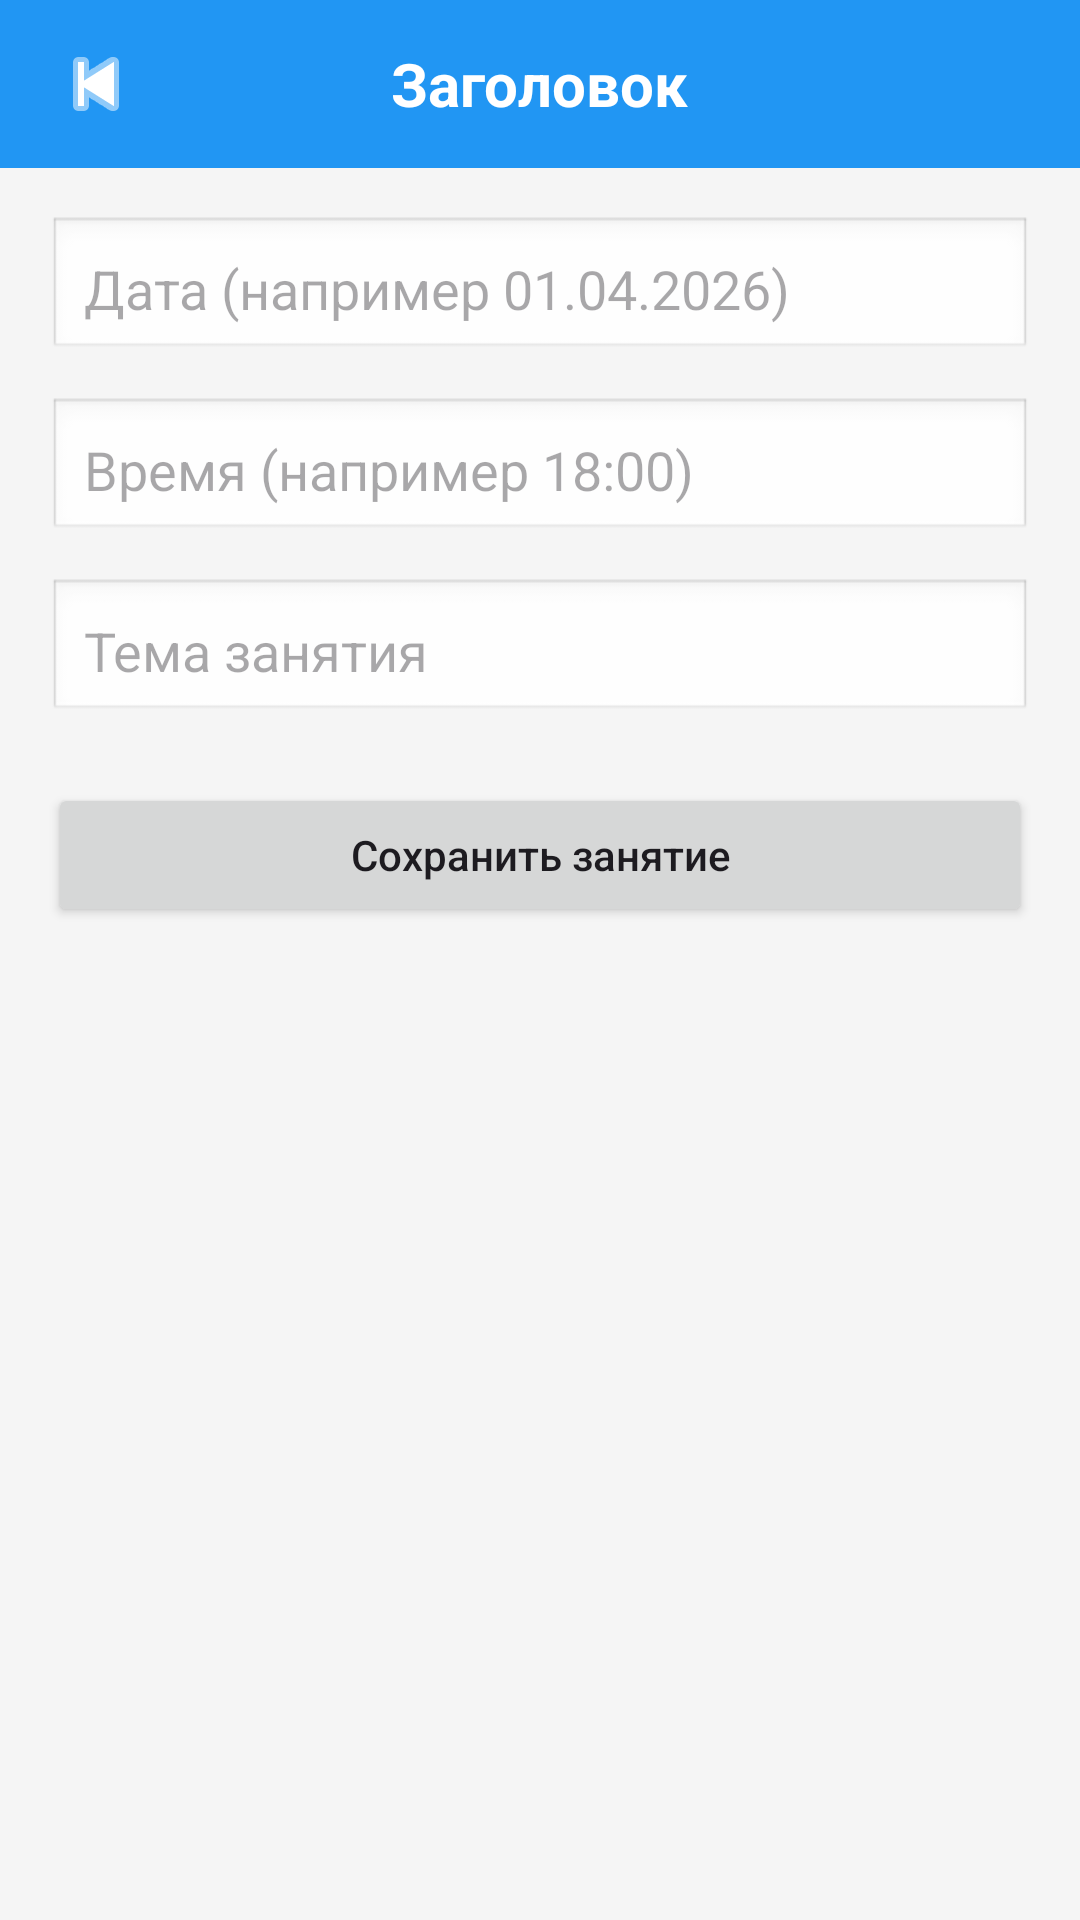

Screen size 1080x1920. Icon name, then its center in pixels as (x,y):
Назад: (96,84)
